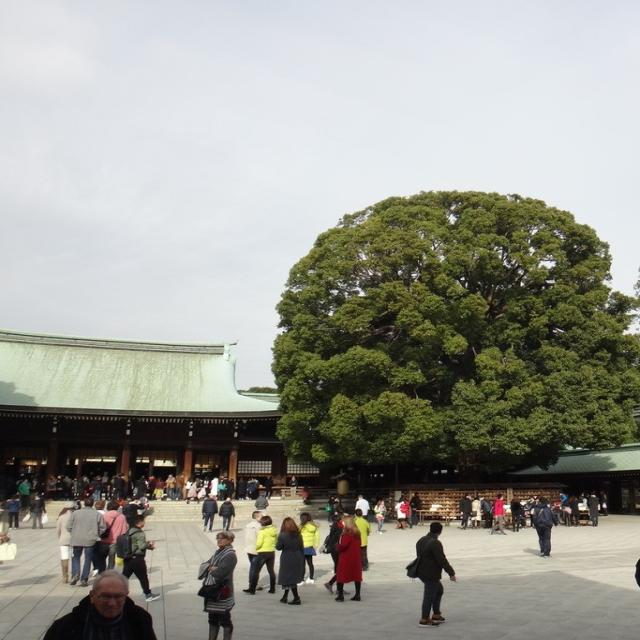camphor: (271, 189, 640, 493)
